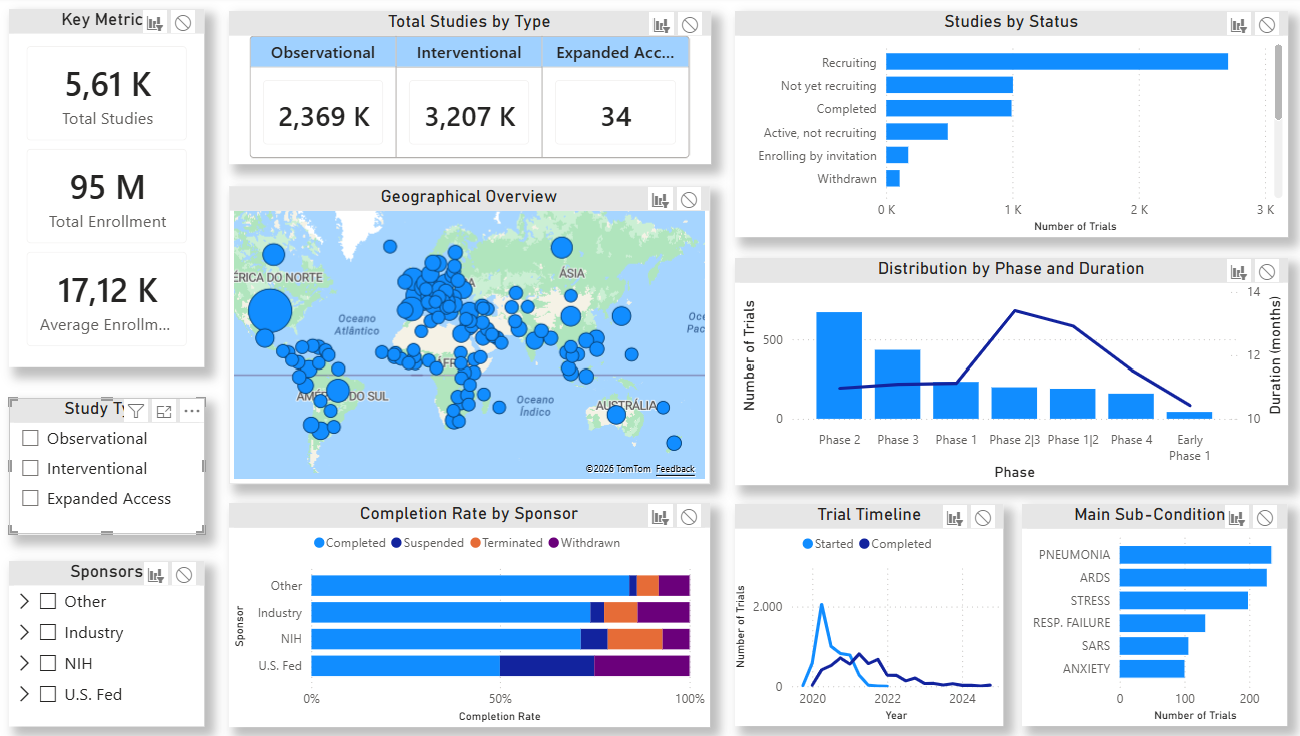

What the dashboard file says about the page in this screenshot:
{"tool":"powerbi","page":{"name":"Duplicado de Dashboard_","canvas":[1280,720],"ordinal":0},"visuals":[{"type":"lineClusteredColumnComboChart","title":"Distribution by Phase and Duration","fields":{"Category":["covid19_db v_studies_cleaned_post2019.phase"],"Y":["CountNonNull(covid19_db v_studies_cleaned_post2019.study_id)"],"Y2":["Avg(covid19_db v_studies_cleaned_post2019.duration_years)"]},"box":[715,253.8,537.5,220],"z":0},{"type":"clusteredBarChart","title":"Studies by Status","fields":{"Category":["covid19_db v_studies_cleaned_post2019.status"],"Y":["CountNonNull(covid19_db v_studies_cleaned_post2019.study_id)"]},"box":[715,13.8,537.5,220],"z":1000},{"type":"azureMap","title":"Geographical Overview","fields":{"Category":["covid19_db locations.country"],"Size":["Sum(covid19_db locations.study_id)"]},"box":[223.5,183.7,467,289.3],"z":2000},{"type":"cardVisual","title":"Key Metrics","fields":{"Data":["CountNonNull(covid19_db v_studies_cleaned_post2019.study_id)","Sum(covid19_db v_studies_cleaned_post2019.enrollment)","Avg(covid19_db v_studies_cleaned_post2019.enrollment)"]},"box":[9.6,12,190,347.7],"z":3000},{"type":"listSlicer","title":"Sponsors","fields":{"Values":["covid19_db sponsors.agency_class","covid19_db sponsors.lead_or_collaborator"]},"box":[10,547.1,190,161.4],"z":4000},{"type":"cardVisual","title":"Total Studies by Type","fields":{"Data":["CountNonNull(covid19_db v_studies_cleaned_post2019.study_id)"],"Rows":["covid19_db v_studies_cleaned_post2019.study_type_clean"]},"box":[224.1,13.9,467.5,148.8],"z":5000},{"type":"slicer","title":"Study Type","fields":{"Values":["covid19_db v_studies_cleaned_post2019.study_type_clean"]},"box":[10,388.6,190,132.9],"z":6000},{"type":"hundredPercentStackedBarChart","title":"Completion Rate by Sponsor","fields":{"Category":["covid19_db sponsors.agency_class"],"Series":["covid19_db v_studies_cleaned_post2019.status"],"Y":["CountNonNull(covid19_db v_studies_cleaned_post2019.study_id)"]},"box":[223.4,490.9,467,217.6],"z":7000},{"type":"lineChart","title":"Trial Timeline","fields":{"Category":["covid19_db vw_trial_timeline.event_date.Variação.Hierarquia de Datas.Ano","covid19_db vw_trial_timeline.event_date.Variação.Hierarquia de Datas.Trimestre","covid19_db vw_trial_timeline.event_date.Variação.Hierarquia de Datas.Mês"],"Series":["covid19_db vw_trial_timeline.event_type"],"Y":["Count(covid19_db vw_trial_timeline.study_id)"]},"box":[715,492.5,261.2,216.2],"z":8000},{"type":"clusteredBarChart","title":"Main Sub-Conditions","fields":{"Category":["covid19_db conditions.Condition Label"],"Y":["CountNonNull(covid19_db conditions.condition_name)"]},"box":[993.8,492.5,257.5,216.2],"z":9000}]}

Visuals, with their boxes in screenshot pixels (x1, y1, x2, y2), scaled from the page's 1280x720 canvas onto the 1300x736 screenshot:
"Distribution by Phase and Duration" lineClusteredColumnComboChart: x1=726, y1=259, x2=1272, y2=484
"Studies by Status" clusteredBarChart: x1=726, y1=14, x2=1272, y2=239
"Geographical Overview" azureMap: x1=227, y1=188, x2=701, y2=484
"Key Metrics" cardVisual: x1=10, y1=12, x2=203, y2=368
"Sponsors" listSlicer: x1=10, y1=559, x2=203, y2=724
"Total Studies by Type" cardVisual: x1=228, y1=14, x2=702, y2=166
"Study Type" slicer: x1=10, y1=397, x2=203, y2=533
"Completion Rate by Sponsor" hundredPercentStackedBarChart: x1=227, y1=502, x2=701, y2=724
"Trial Timeline" lineChart: x1=726, y1=503, x2=991, y2=724
"Main Sub-Conditions" clusteredBarChart: x1=1009, y1=503, x2=1271, y2=724
